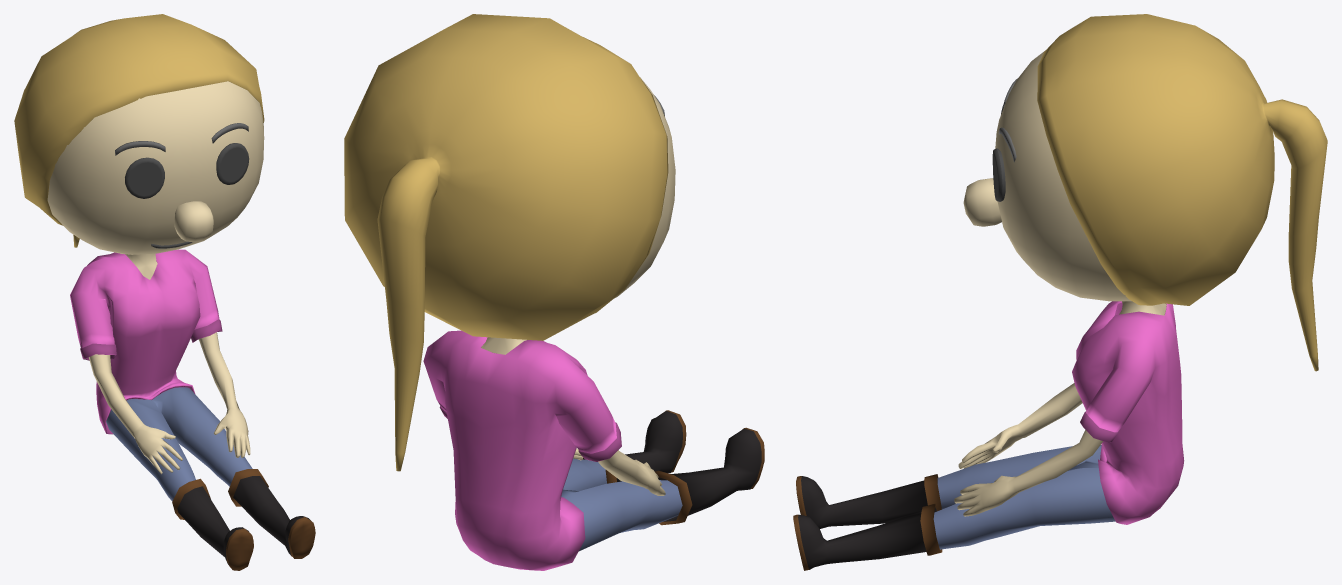
File: momsit.fbx
3 renders of one model, left to right at view 1: azimuth 30°, elevation 25°; view 2: azimuth 150°, elevation 25°; view 3: azimuth 270°, elevation 25°, orthographic. The views are drawn at different scales.
Visible parts, largest first — view 1: sapatos.000; view 2: sapatos.000; view 3: sapatos.000.
Boxes of the visible parts, x1,y1,x2,y2 form: sapatos.000: (14, 14, 315, 570); sapatos.000: (344, 14, 764, 570); sapatos.000: (793, 14, 1327, 570).
Size of the model in its own units: 2614 by 4842 by 4473.
